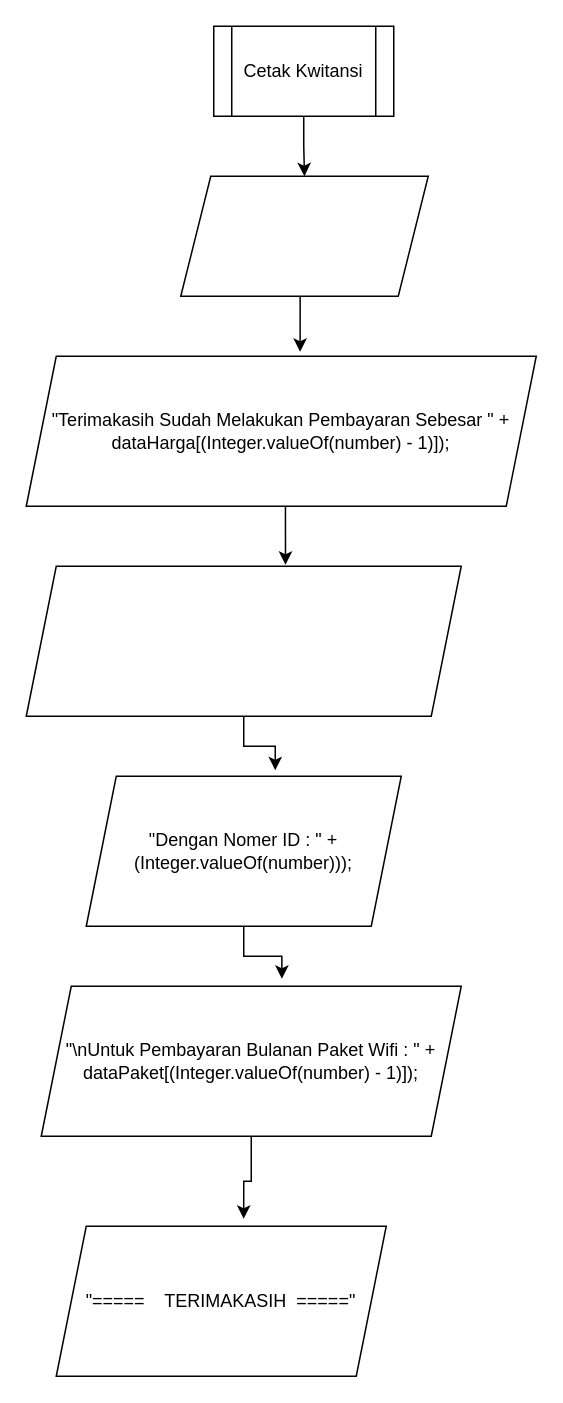
Image size: 563x1403. Some labels were removed from this diagram. Here are the shapes that lost their labels. From the top down, the centre of each, then its label:
(x=303, y=235): "== STRUK KWITANSI ==="
(x=243, y=640): "Atas Nama : " + dataPelanggan[(Integer.valueOf(number) - 1)]);
